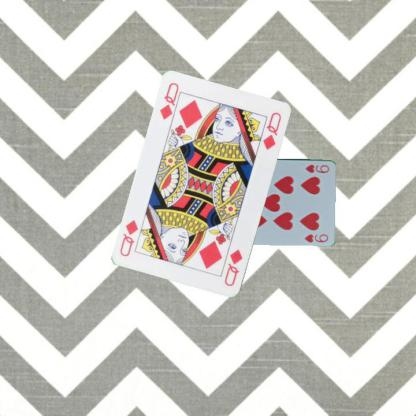9h: (303, 162, 330, 174)
Qd: (157, 80, 183, 126), (222, 247, 244, 288)
